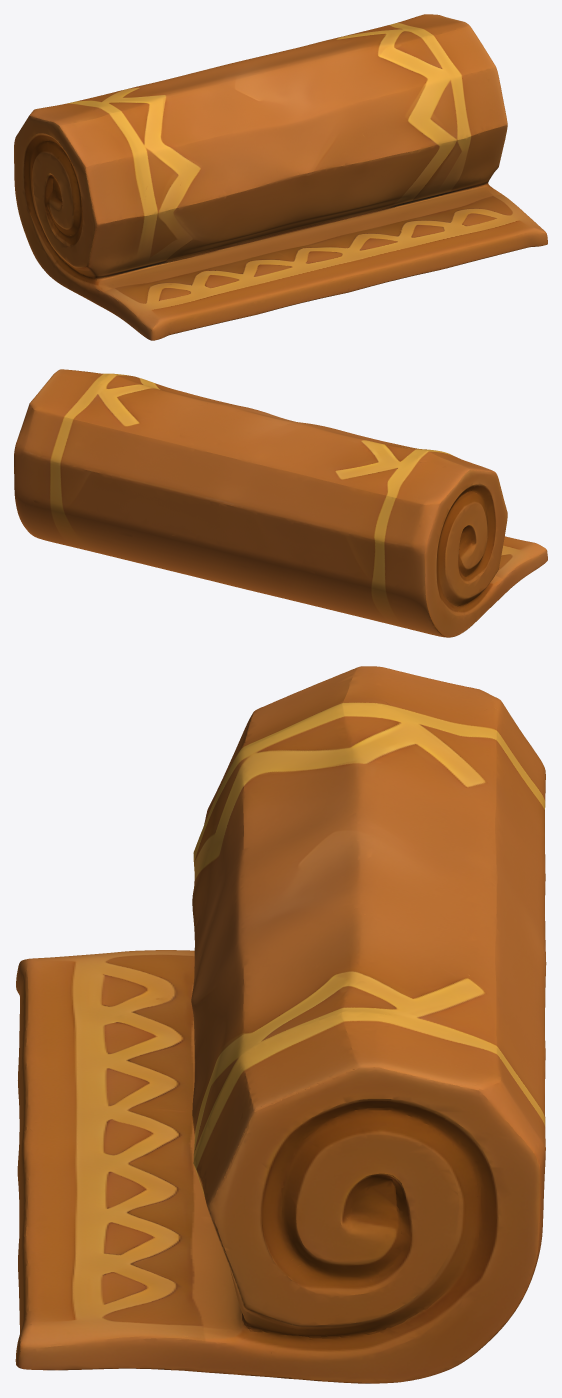
File: base_basic_pbr.fbx
The picture shows the model from 3 angles, top to bottom: view 1: azimuth 30°, elevation 25°; view 2: azimuth 150°, elevation 25°; view 3: azimuth 270°, elevation 25°; orthographic projection. The views are drawn at different scales.
Parts seen in each view (by area): view 1: model; view 2: model; view 3: model.
Boxes of the visible parts, x1,y1,x2,y2 form: model: [14, 14, 547, 340]; model: [14, 369, 547, 637]; model: [15, 666, 546, 1383].
Size of the model in its own units: 189 by 71.7 by 105.
Materials: 1 (1 with a texture image).
